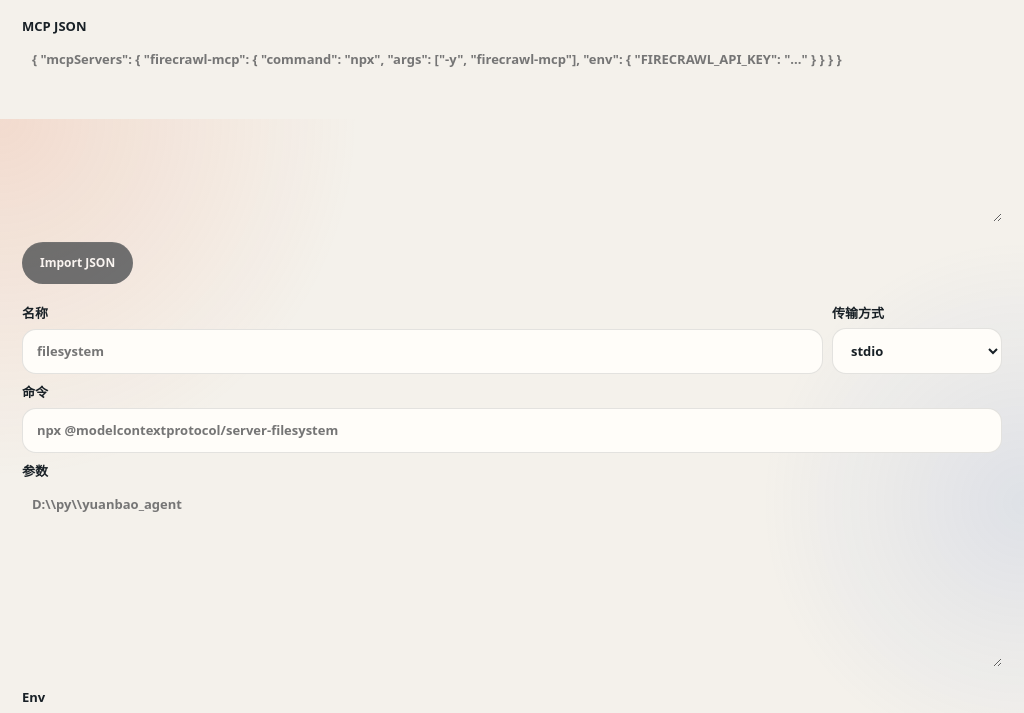
it: McpWorkspace › requires transport-specific fields before submitting MCP servers
This screenshot has width=1024, height=713.
(page scrolled)
Type "missing command" into the field labelled "名称". click: (422, 352)
box: [22, 329, 823, 374]
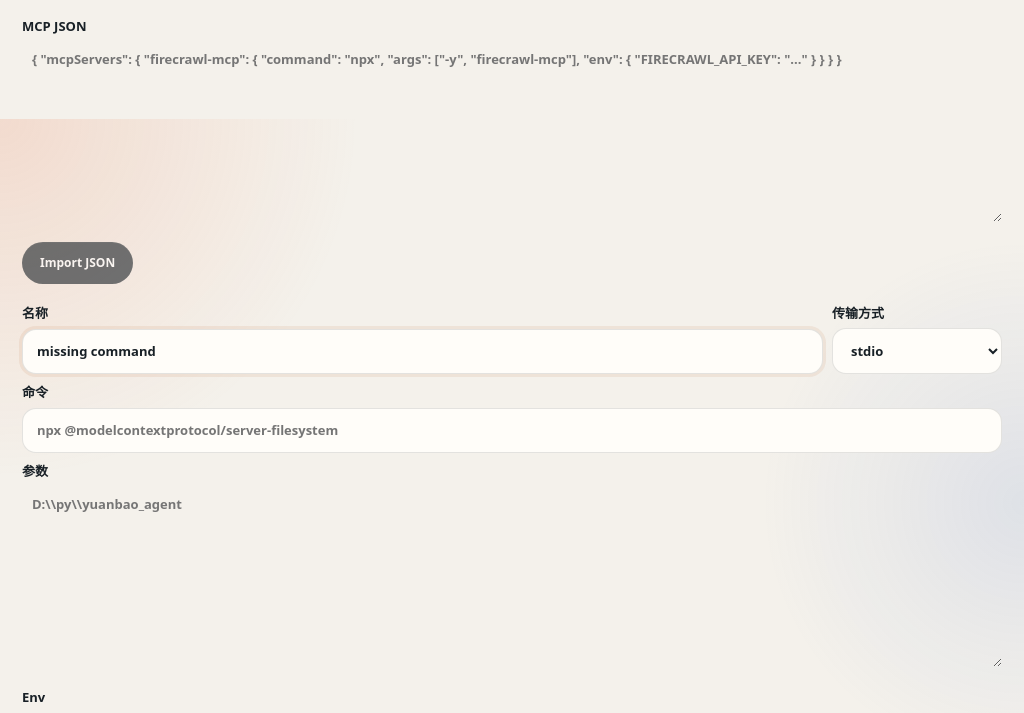
Select "http" in the dropdown labelled "传输方式". click: (917, 351)
box: [832, 328, 1002, 374]
(page scrolled)
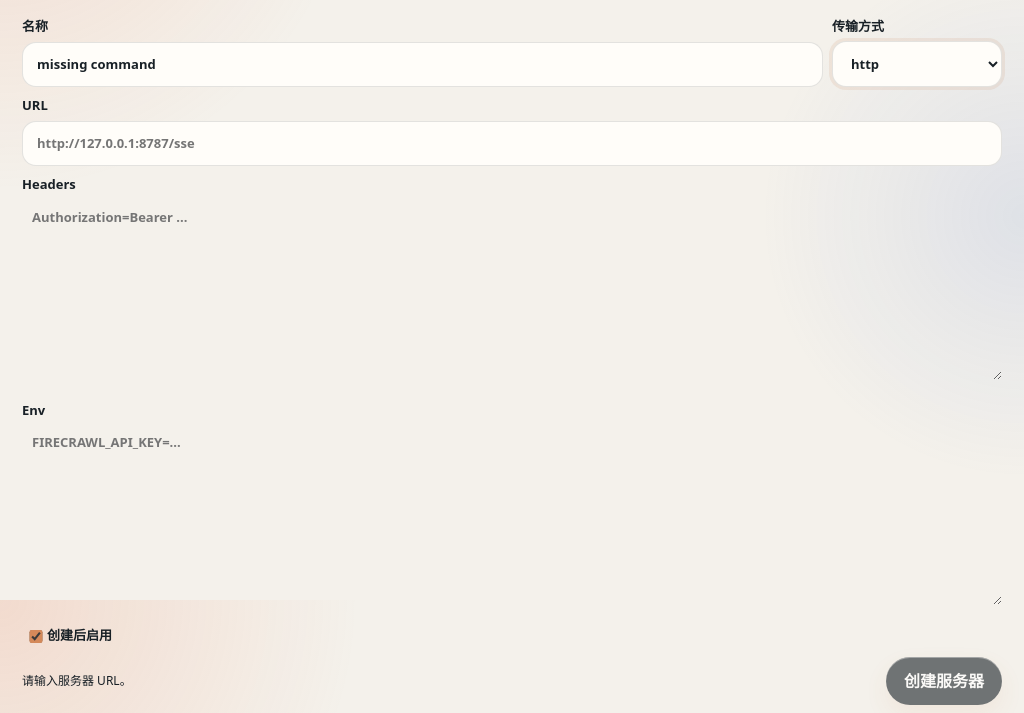
Expected: the button "创建服务器" is disabled, [886, 657, 1002, 705]
Expected: the text "请输入服务器 URL。" is shown, [22, 672, 132, 689]
